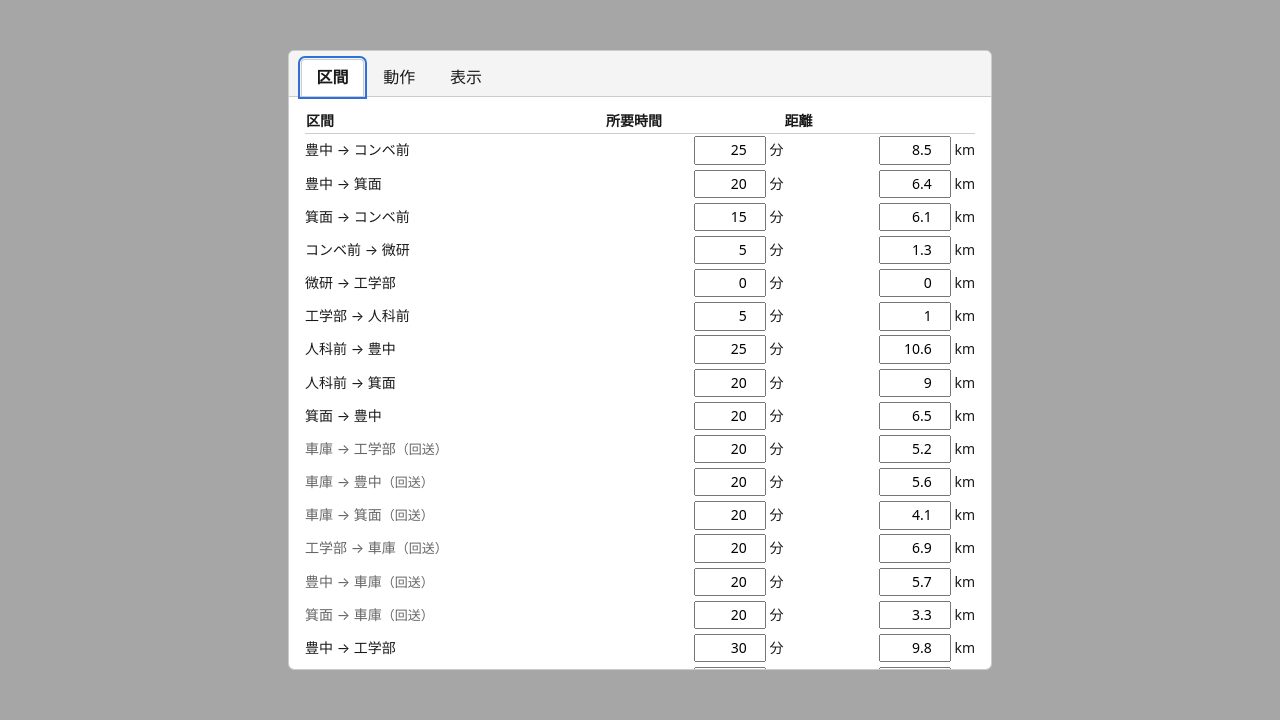
Test: 表示タブ（§6.5.3） › 既定は「システムに従う」（起動した瞬間に驚かせない）
The width and height of the screenshot is (1280, 720).
Click the tab "表示": {"x": 466, "y": 78} [435,59,497,96]
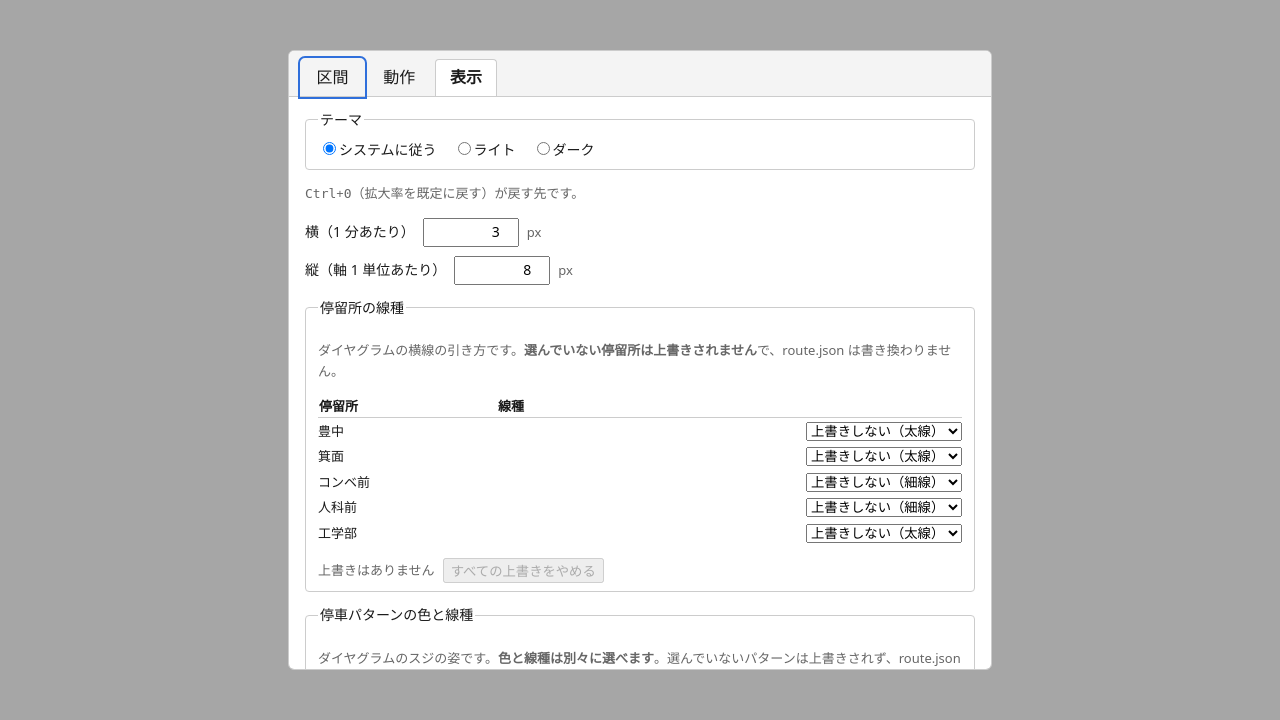
Check: the radio button labelled "システムに従う" is checked, box [323,142,336,155]
